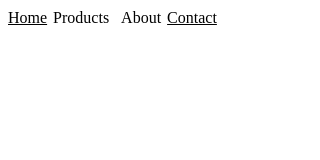
it: Nav › has no menu roles anywhere, open or closed
This screenshot has width=320, height=160.
Click the button "Products": (81, 18) [47, 8, 115, 28]
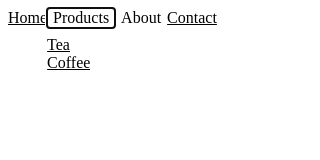
Expected: the navigation bar is shown, [8, 8, 217, 28]
Result: the button "Products" is expanded at [47, 8, 115, 28]
